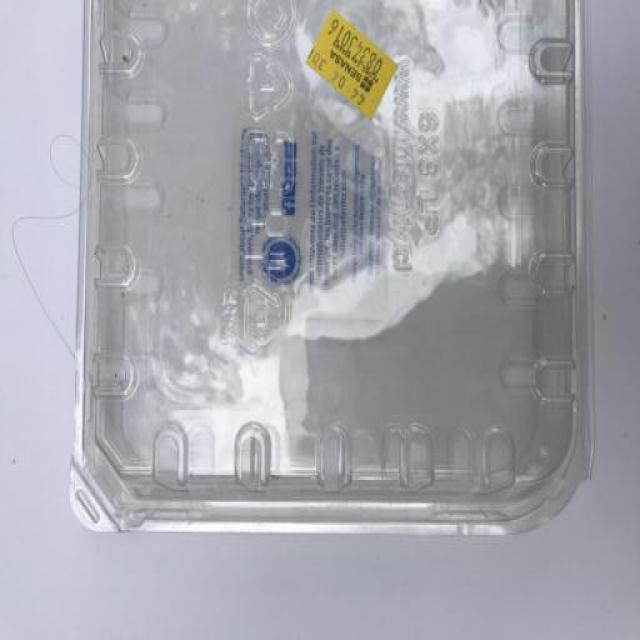Plastic: (78, 0, 592, 537)
